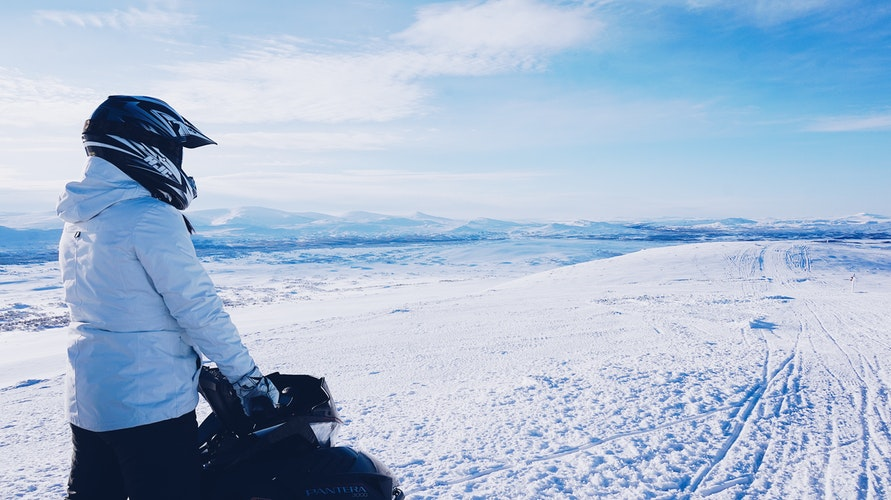helmet: (72, 84, 226, 228)
